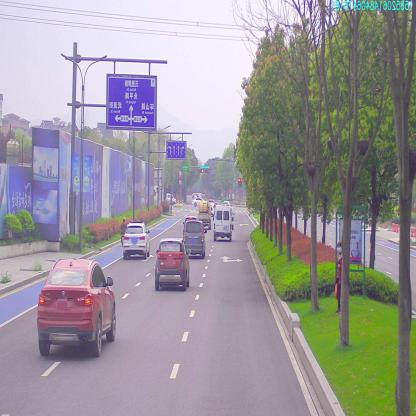traffic-light: (200, 163, 208, 169), (200, 168, 205, 173), (207, 167, 210, 174)
